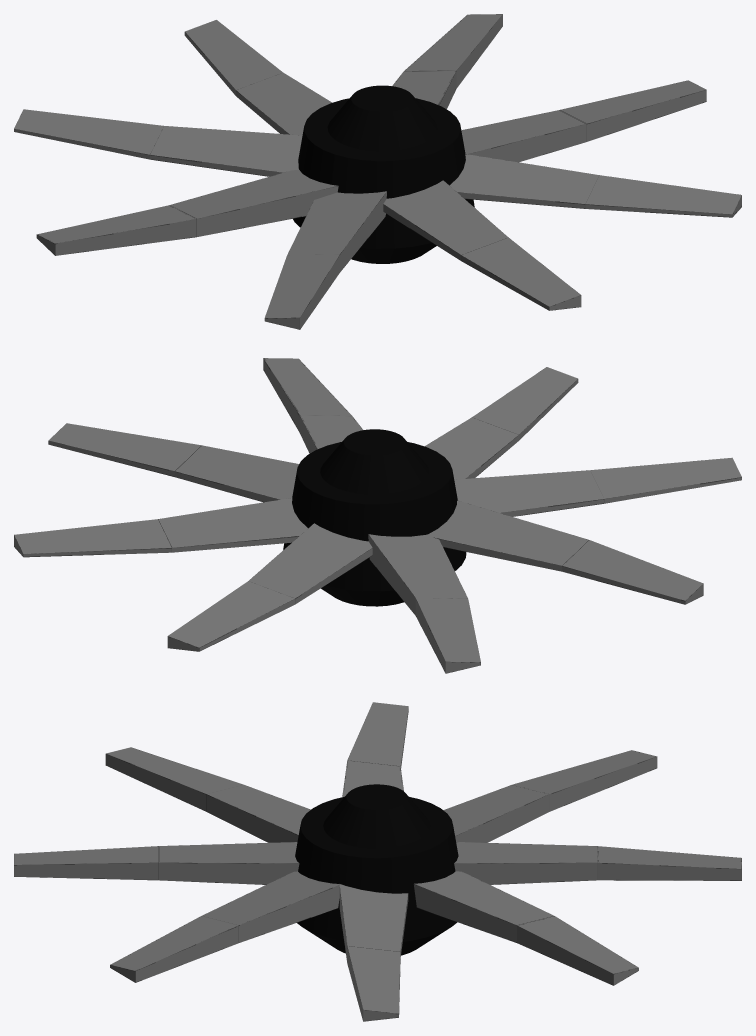
File: helices.gltf
3 renders of one model, top to bottom at view 1: azimuth 30°, elevation 25°; view 2: azimuth 150°, elevation 25°; view 3: azimuth 270°, elevation 25°, orthographic. The views are drawn at different scales.
Parts seen in each view (by area): view 1: Cube.001; view 2: Cube.001; view 3: Cube.001.
Boxes of the visible parts, x1=… form: Cube.001: x1=14, y1=14, x2=741, y2=329; Cube.001: x1=14, y1=358, x2=741, y2=673; Cube.001: x1=14, y1=702, x2=741, y2=1021.
Size of the model in its own units: 1.68 by 0.3585 by 1.68.
1 material, 1 textured.
